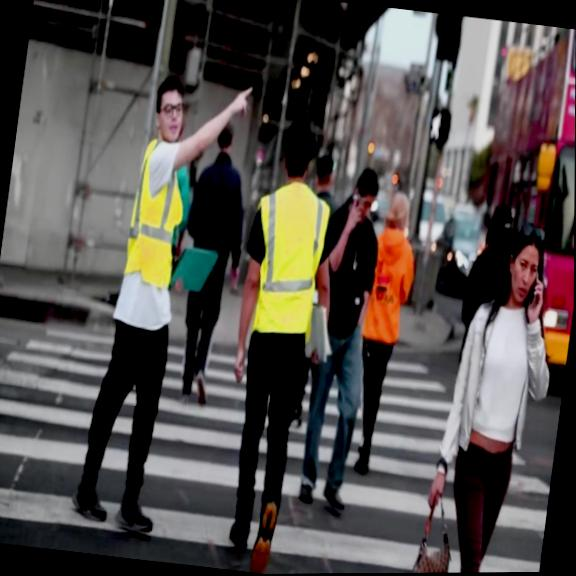safety_vest: (238, 172, 332, 343), (121, 134, 192, 290)
